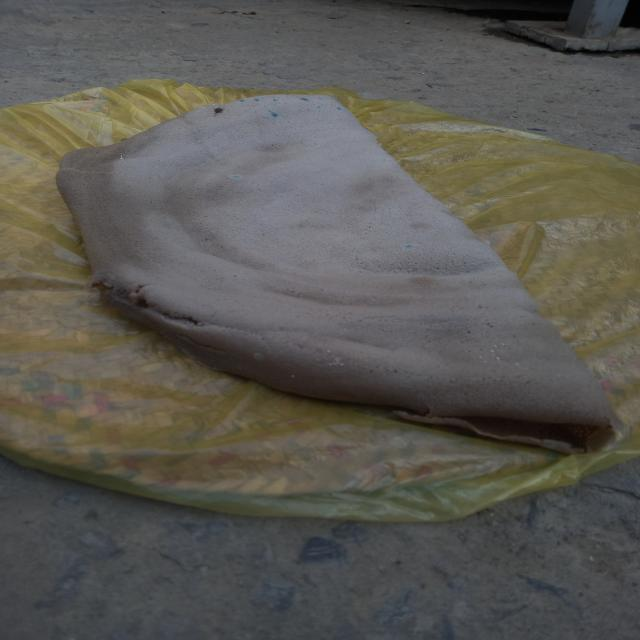injera_mold: (330, 358, 344, 367), (254, 353, 264, 361), (269, 112, 279, 118), (228, 175, 242, 179), (119, 154, 125, 161), (300, 98, 311, 101), (405, 245, 413, 249), (253, 98, 261, 102), (515, 362, 521, 367), (238, 99, 245, 103), (326, 349, 331, 354), (495, 356, 501, 360), (272, 99, 280, 102), (208, 103, 216, 106), (336, 107, 342, 110), (291, 374, 295, 378), (491, 354, 496, 357), (268, 110, 272, 113), (220, 110, 224, 113), (199, 106, 205, 108), (490, 350, 495, 352), (318, 98, 323, 100), (479, 356, 482, 359), (484, 361, 487, 364), (494, 345, 498, 347), (317, 106, 321, 108), (217, 106, 220, 108), (502, 343, 504, 345)
